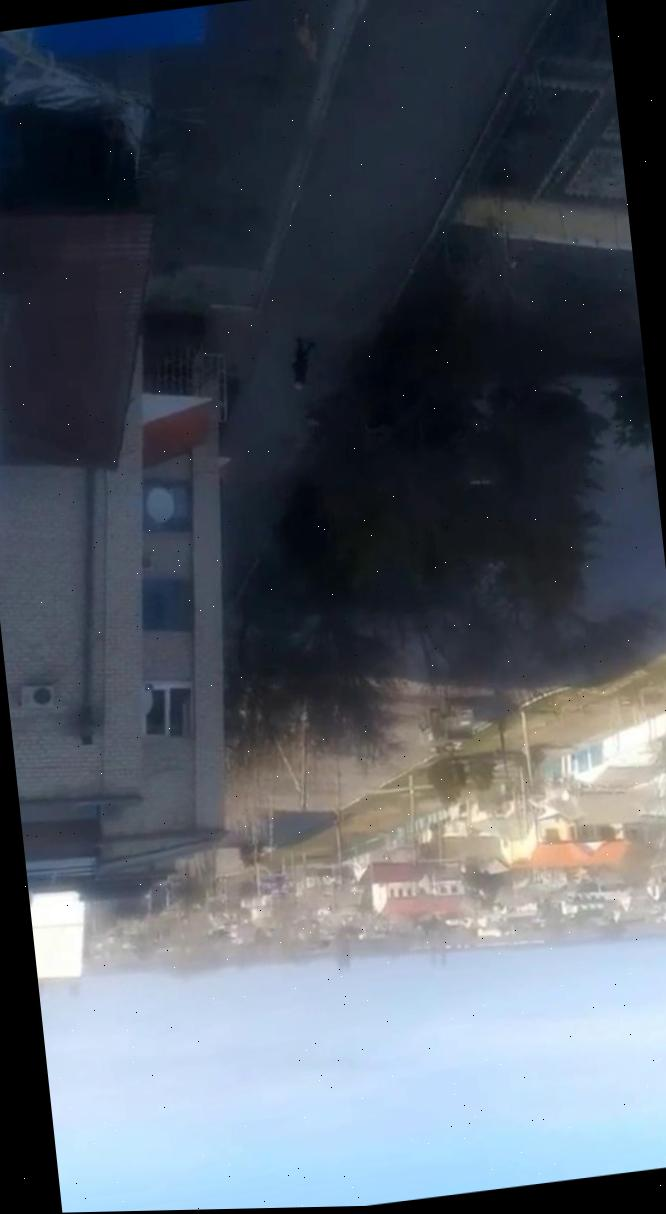person: (286, 333, 321, 393)
truck: (418, 694, 484, 759)
